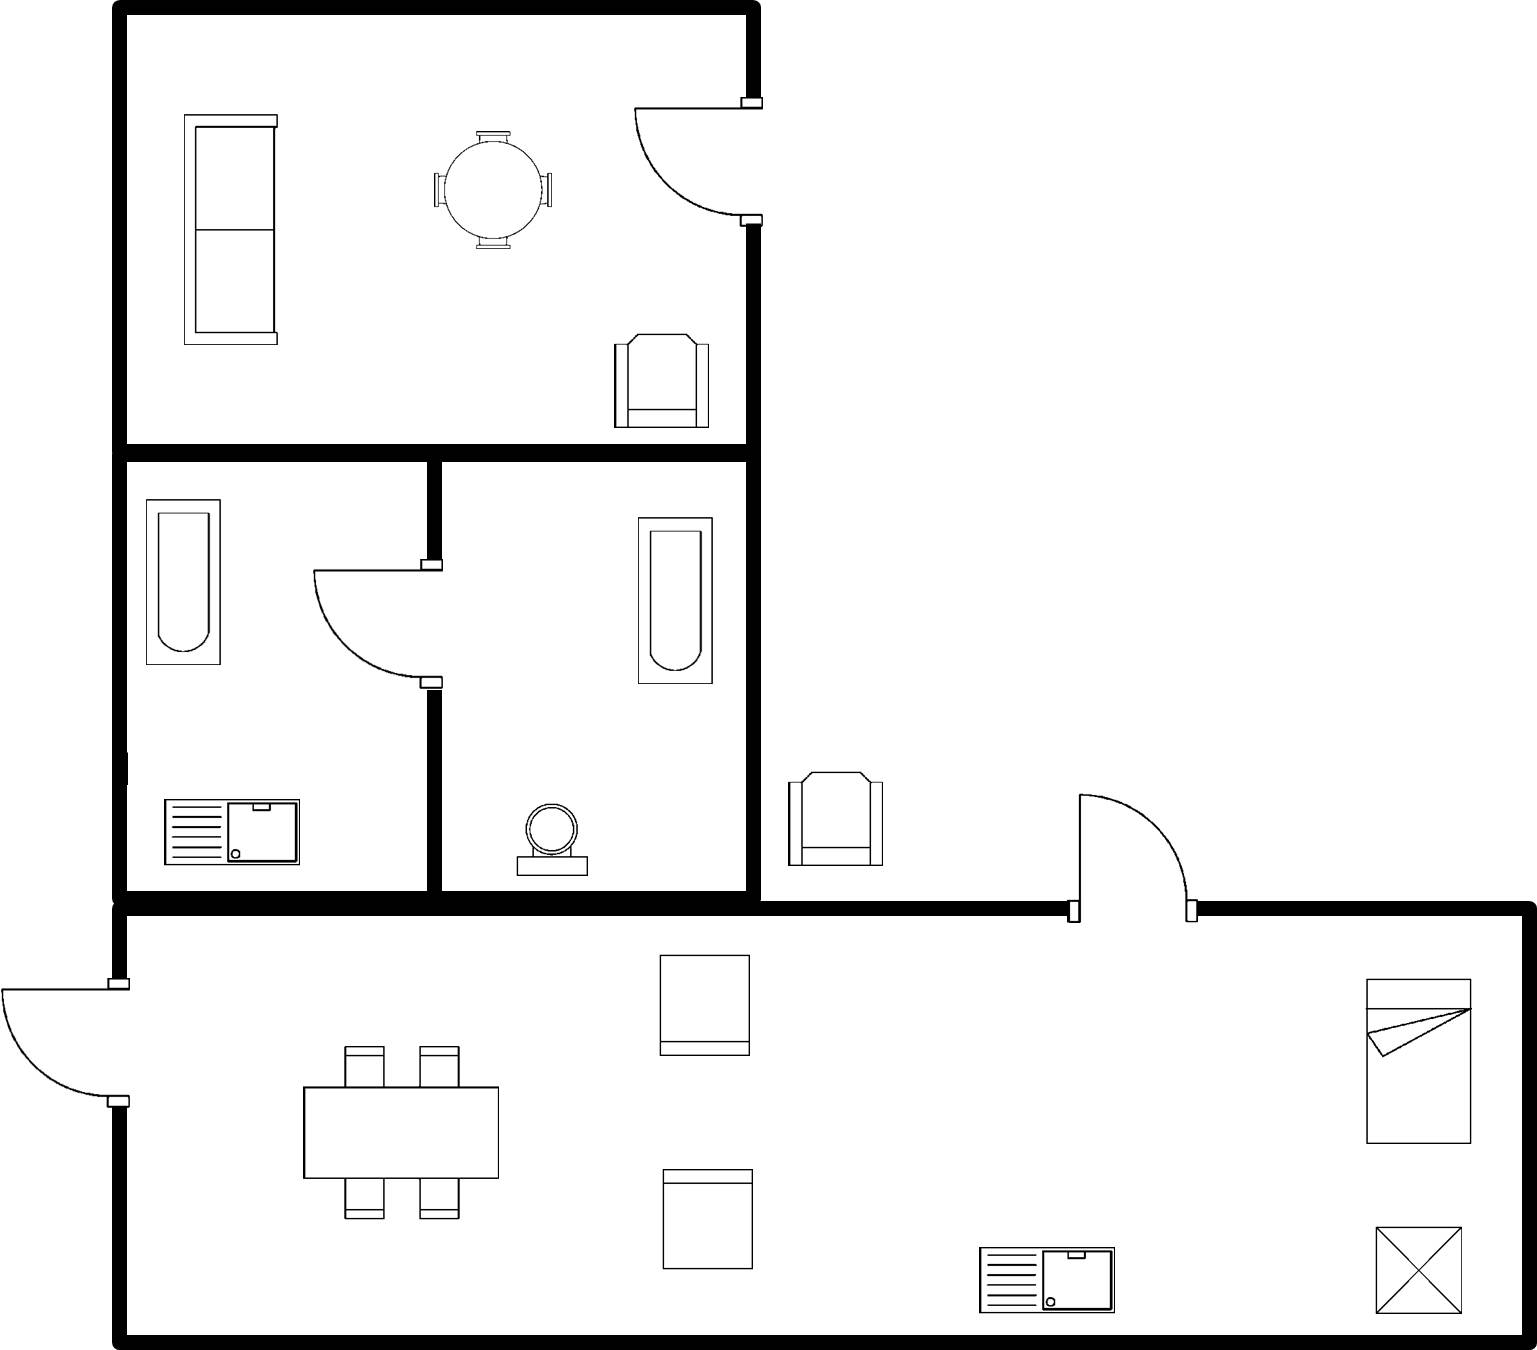armchair: (604, 322, 721, 437), (779, 759, 891, 875)
bed: (1352, 966, 1481, 1158)
coffee_table: (1362, 1218, 1470, 1322)
dining_table: (291, 1037, 514, 1228)
large_sink: (501, 795, 599, 883)
large_sofa: (175, 101, 289, 360)
round_table: (422, 122, 563, 264)
sink: (967, 1234, 1124, 1324), (152, 788, 309, 876)
small_sofa: (649, 939, 760, 1070), (651, 1158, 763, 1278)
tub: (135, 492, 233, 674), (626, 509, 720, 695)
